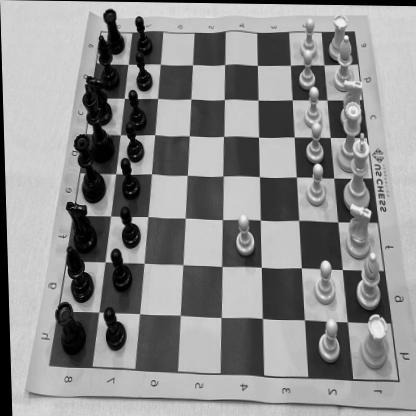black-bishop: (64, 244, 92, 304), (97, 32, 119, 91)
black-king: (81, 84, 114, 164)
black-knight: (64, 198, 96, 251), (84, 74, 112, 126)
black-pawn: (100, 306, 126, 352), (108, 247, 132, 293), (124, 121, 149, 164), (118, 206, 141, 250), (126, 89, 148, 132), (134, 51, 156, 93), (119, 157, 140, 200), (136, 13, 154, 56)
black-queen: (73, 131, 106, 203)
black-rook: (51, 300, 86, 357), (101, 7, 125, 56)
white-bishop: (354, 250, 384, 310), (332, 30, 358, 91)
white-king: (340, 130, 374, 213)
white-knight: (342, 200, 376, 258), (338, 77, 365, 129)
white-pawn: (311, 256, 337, 306), (314, 316, 342, 362), (302, 160, 327, 207), (232, 210, 256, 258), (302, 121, 326, 164), (296, 48, 318, 92), (302, 84, 324, 128), (298, 16, 320, 58)
white-queen: (334, 100, 364, 174)
white-rook: (356, 312, 390, 371), (327, 12, 352, 62)
